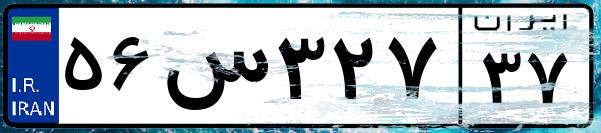2: (330, 28, 385, 110)
3: (270, 28, 330, 110), (475, 38, 525, 113)
5: (57, 26, 110, 100)
6: (110, 28, 158, 98)
7: (385, 28, 445, 110), (525, 38, 570, 115)
س: (158, 20, 270, 120)
